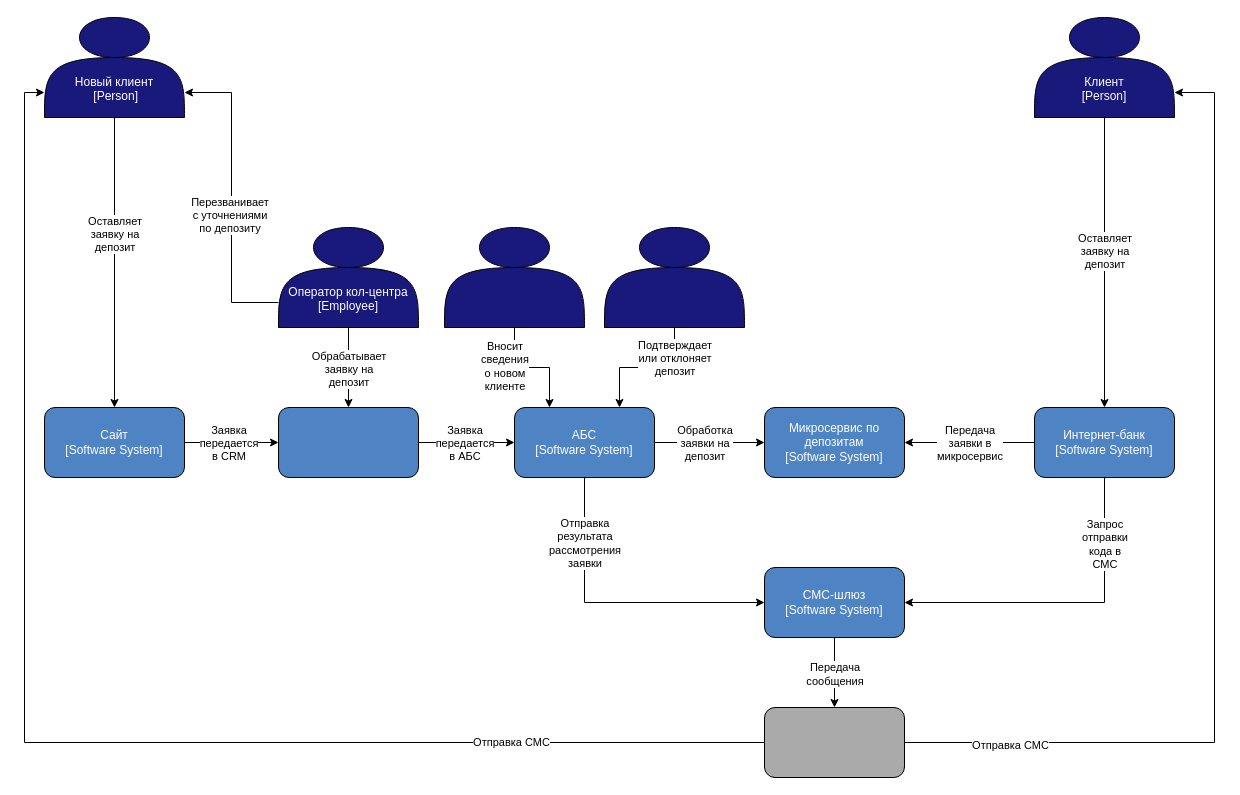
The diagram is 1240 pixels wide and 795 high, and some of its shapes have lost their labels. Here are the shapes that lost their labels. From the top down, the centre of each, then its label:
At point 514,277: "Менеджер фронт-офиса [Employee]".
At point 674,277: "Менеджер по депозитам [Employee]".
At point 348,442: "CRM [Software System]".
At point 834,742: "Система телеком-оператора [Software System]".
